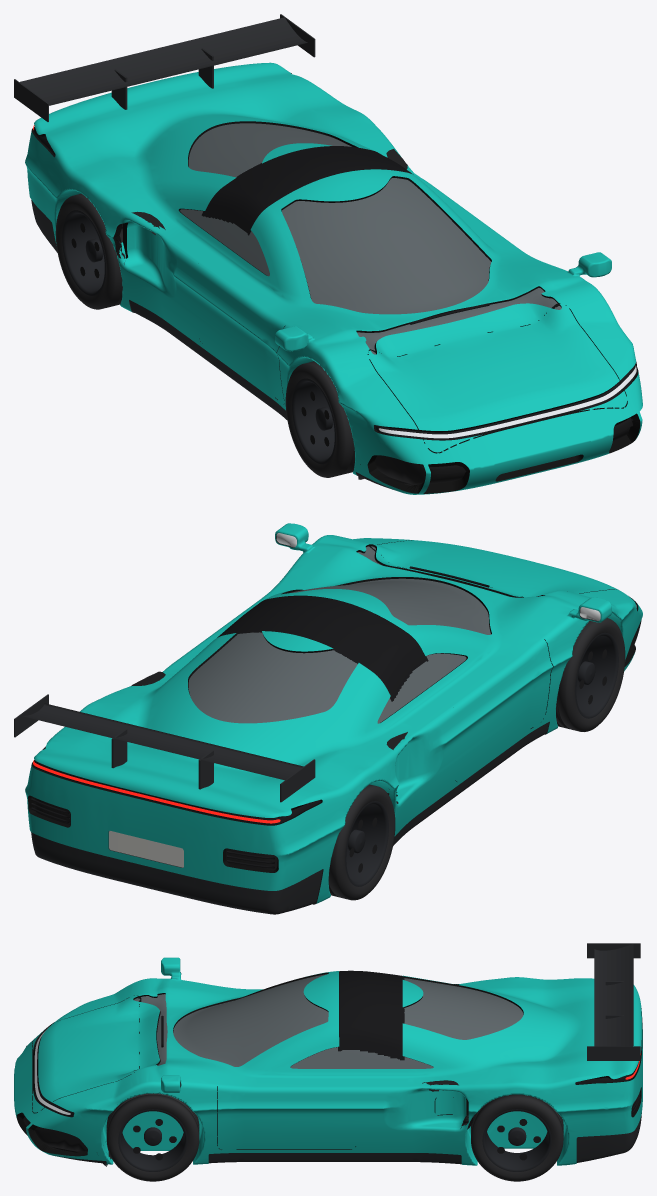
Rendered from arcline-vanta.fbx.
3 views of the same model, one above another, from view 1: azimuth 30°, elevation 25°; view 2: azimuth 150°, elevation 25°; view 3: azimuth 270°, elevation 25° (orthographic). The views are drawn at different scales.
Parts seen in each view (by area): view 1: Body_LOD0, Glass_LOD0, Wing_LOD0, Gloss_LOD0, Wheel_FR_LOD0, Wheel_RR_LOD0, Walls_LOD0, Grille_LOD0, Carbon_LOD0, HeadlightLens_LOD0; view 2: Body_LOD0, Glass_LOD0, Gloss_LOD0, Carbon_LOD0, Wing_LOD0, Wheel_FR_LOD0, Wheel_RR_LOD0, Walls_LOD0, Plate_LOD0, Grille_LOD0, TaillightLens_LOD0, RearVentSlats_LOD0; view 3: Body_LOD0, Glass_LOD0, Gloss_LOD0, Wheel_FL_LOD0, Wheel_RL_LOD0, Wing_LOD0, Carbon_LOD0, Walls_LOD0, Grille_LOD0.
Part boxes in pixels (x1,y1,x2,y2): Body_LOD0: (25,62,642,494); Glass_LOD0: (180,123,561,354); Wing_LOD0: (14,14,315,121); Gloss_LOD0: (34,128,635,440); Wheel_FR_LOD0: (285,361,354,477); Wheel_RR_LOD0: (55,193,122,309); Walls_LOD0: (31,73,640,493); Grille_LOD0: (115,149,632,485); Carbon_LOD0: (31,200,395,490); HeadlightLens_LOD0: (379,366,636,438); Body_LOD0: (25,523,642,903); Glass_LOD0: (188,546,490,723); Gloss_LOD0: (34,596,428,824); Carbon_LOD0: (31,722,549,914); Wing_LOD0: (14,694,315,802); Wheel_FR_LOD0: (556,618,625,731); Wheel_RR_LOD0: (328,784,395,900); Walls_LOD0: (28,534,641,904); Plate_LOD0: (109,831,183,867); Grille_LOD0: (34,671,407,870); TaillightLens_LOD0: (33,760,280,823); RearVentSlats_LOD0: (31,798,275,868); Body_LOD0: (14,957,642,1165); Glass_LOD0: (134,974,523,1068); Gloss_LOD0: (34,970,638,1116); Wheel_FL_LOD0: (106,1093,199,1181); Wheel_RL_LOD0: (471,1094,563,1181); Wing_LOD0: (587,943,640,1060); Carbon_LOD0: (57,1113,641,1164); Walls_LOD0: (16,971,642,1156); Grille_LOD0: (23,984,634,1166).
Size of what is drawn, in the model's own units: 2.27 by 1.19 by 4.75.
